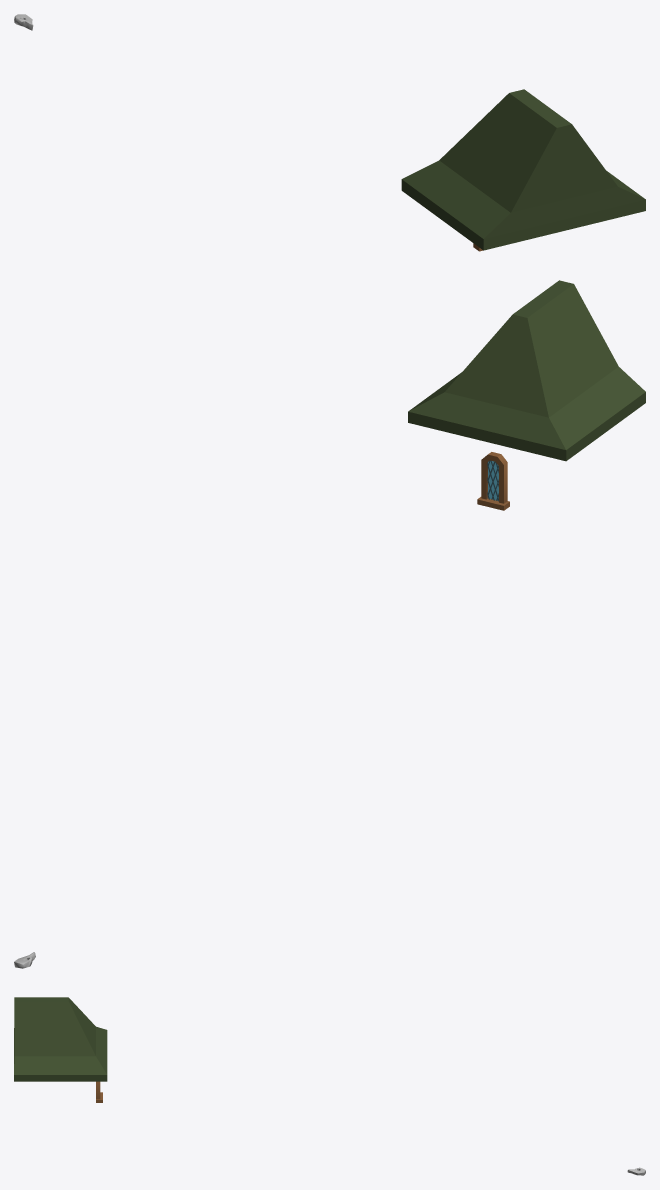
3 renders of one model, top to bottom at view 1: azimuth 30°, elevation 25°; view 2: azimuth 150°, elevation 25°; view 3: azimuth 270°, elevation 25°, orthographic. The views are drawn at different scales.
Visible parts, largest first — view 1: Object198_roof1_0; view 2: Object198_roof1_0; view 3: Object198_roof1_0.
Part boxes in pixels (bbox=[...]): Object198_roof1_0: bbox=[401, 89, 645, 250]; Object198_roof1_0: bbox=[408, 280, 645, 461]; Object198_roof1_0: bbox=[14, 997, 107, 1081].
Bounding box in the file's own units: 475 × 844 × 2809.
